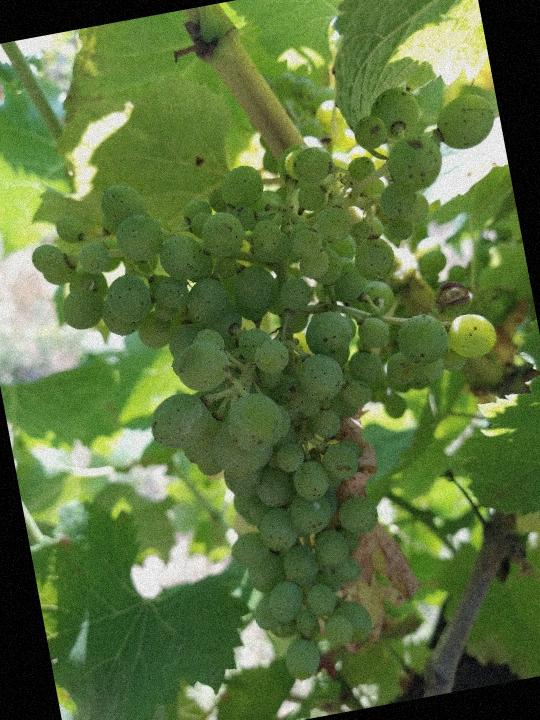grape: (10, 70, 540, 720)
